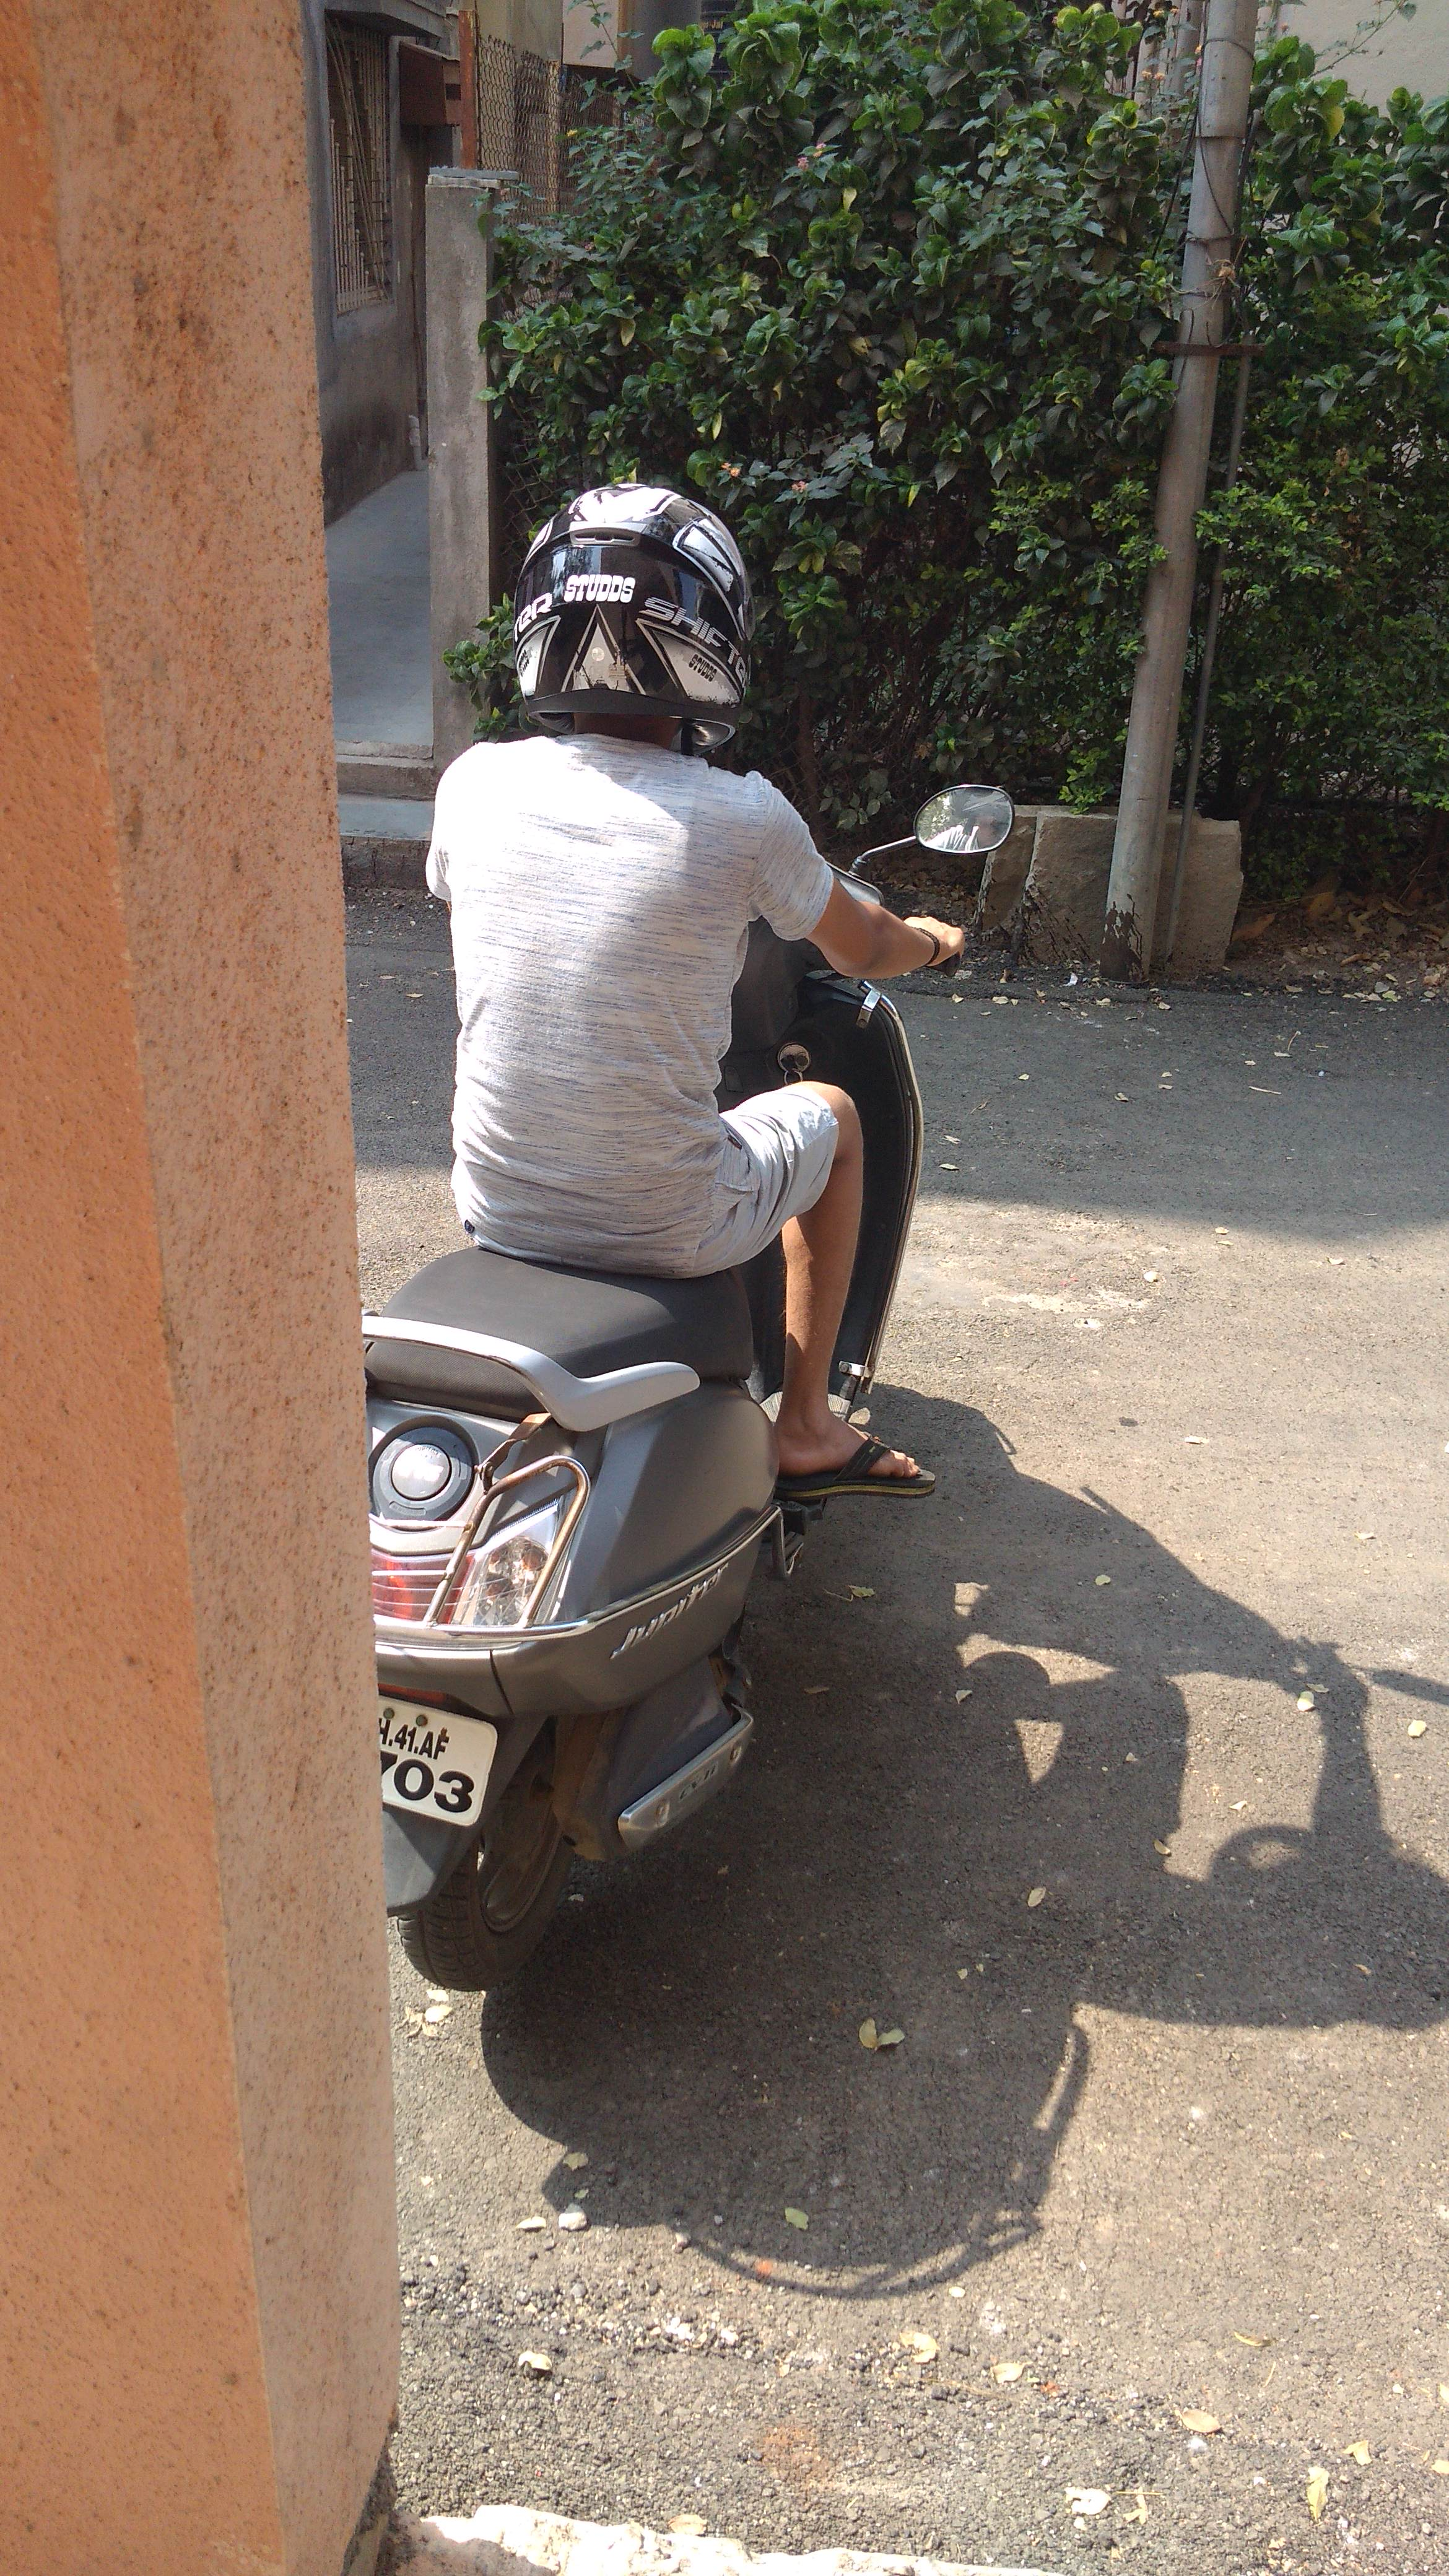helmet: (395, 479, 968, 1371)
